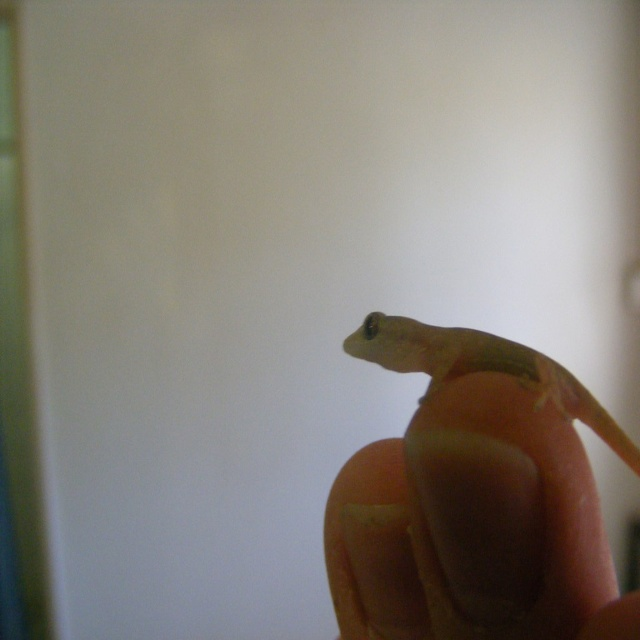Lizard: (329, 302, 572, 618)
